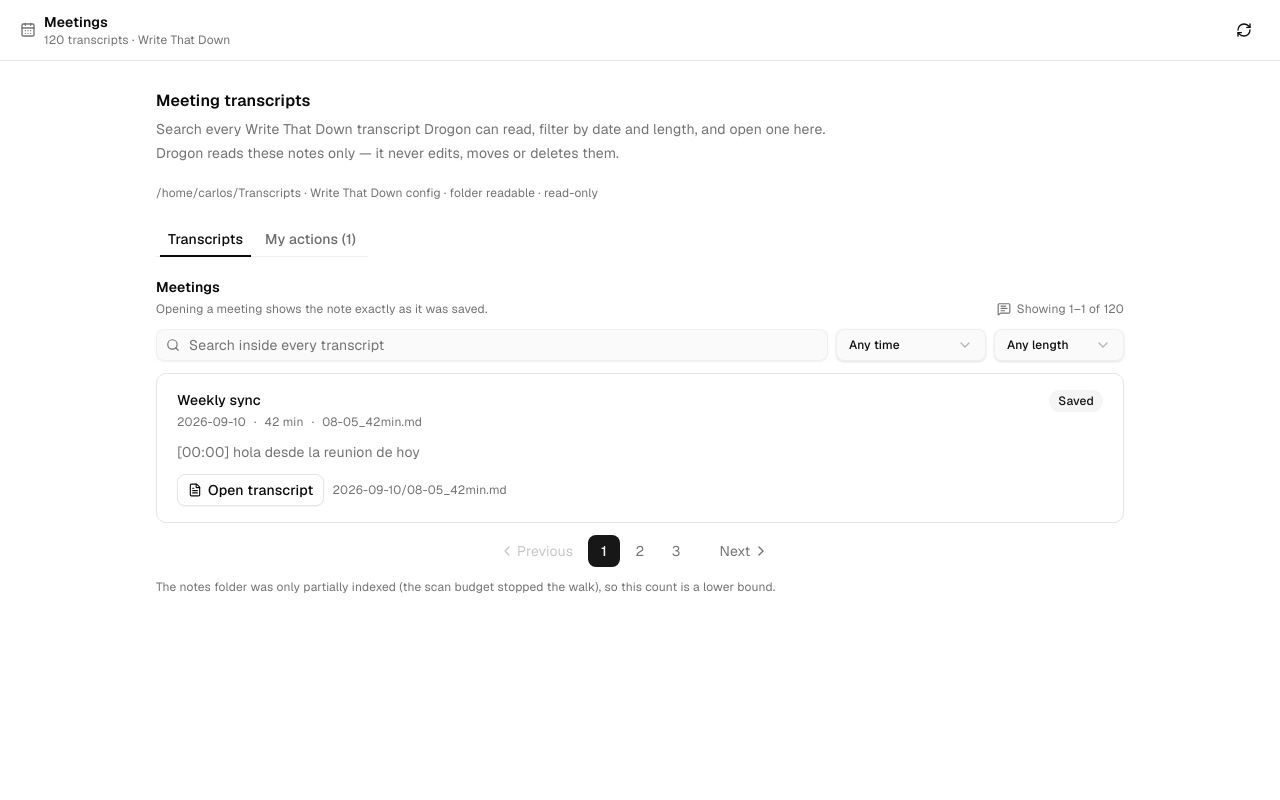
Meetings page list and reader › pages the corpus one bounded page at a time and reports the scan budget
Expected: the heading "Weekly sync" is shown, [177,391,261,409]
Expected: the text "only partially indexed" is shown, [156,579,775,595]
What coordinates should you click on to do the following:
click the button with aria-label "Next page"
I would click on:
 (744, 551)
Its box is [696,537,792,565].
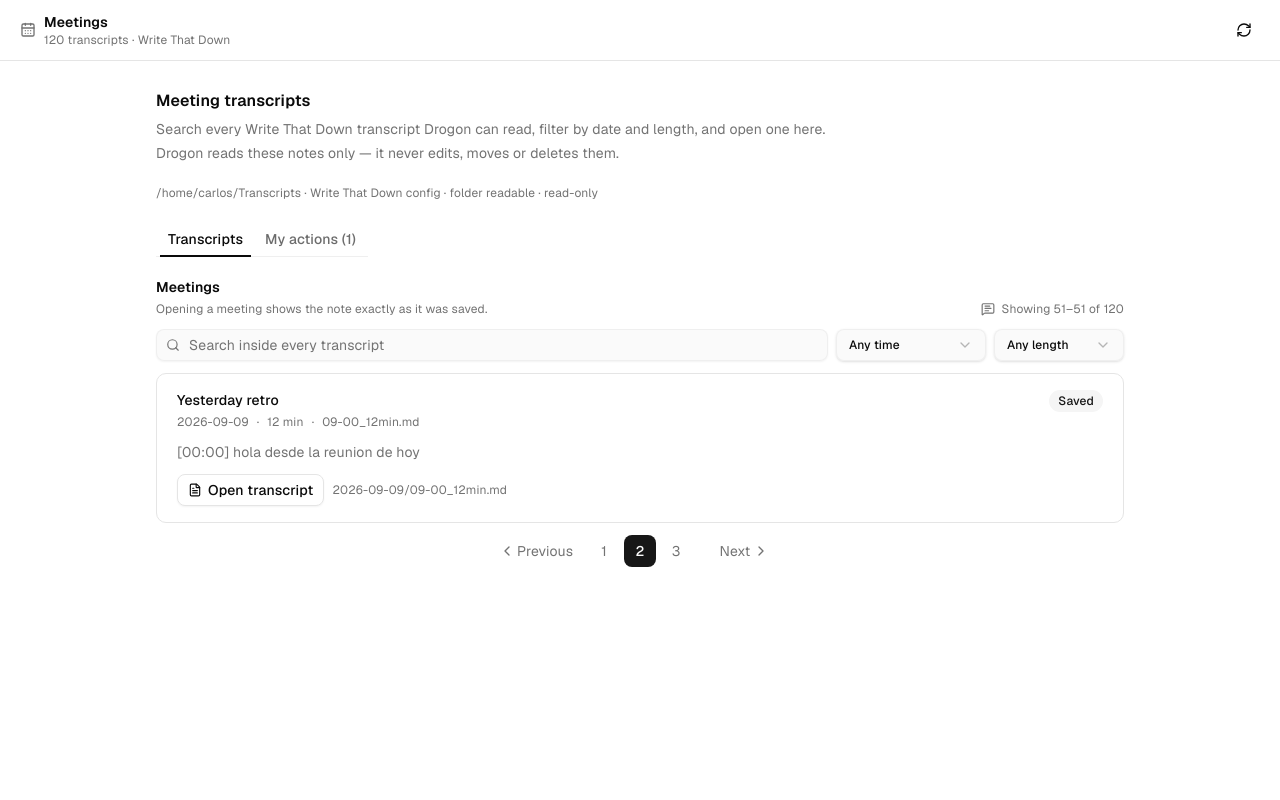
Now the heading "Yesterday retro" is shown, box [177,391,279,409]
Now the heading "Weekly sync" is gone
